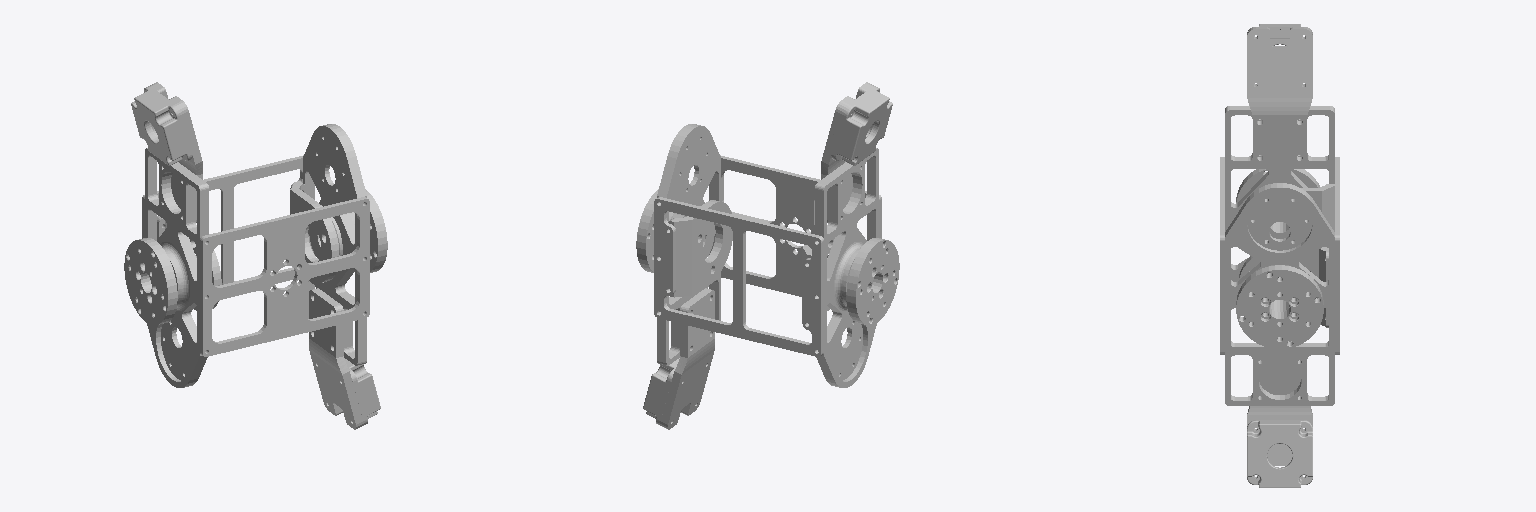
Rendered from PitchModel.obj.
3 renders of one model, left to right at view 1: azimuth 30°, elevation 25°; view 2: azimuth 150°, elevation 25°; view 3: azimuth 270°, elevation 25°, orthographic.
Visible parts, largest first — view 1: Pitch; view 2: Pitch; view 3: Pitch.
Part boxes in pixels (bbox=[...]): Pitch: bbox=[124, 82, 387, 429]; Pitch: bbox=[636, 82, 899, 429]; Pitch: bbox=[1220, 24, 1339, 487].
Size of the model in its own units: 74.68 by 118 by 34.92.